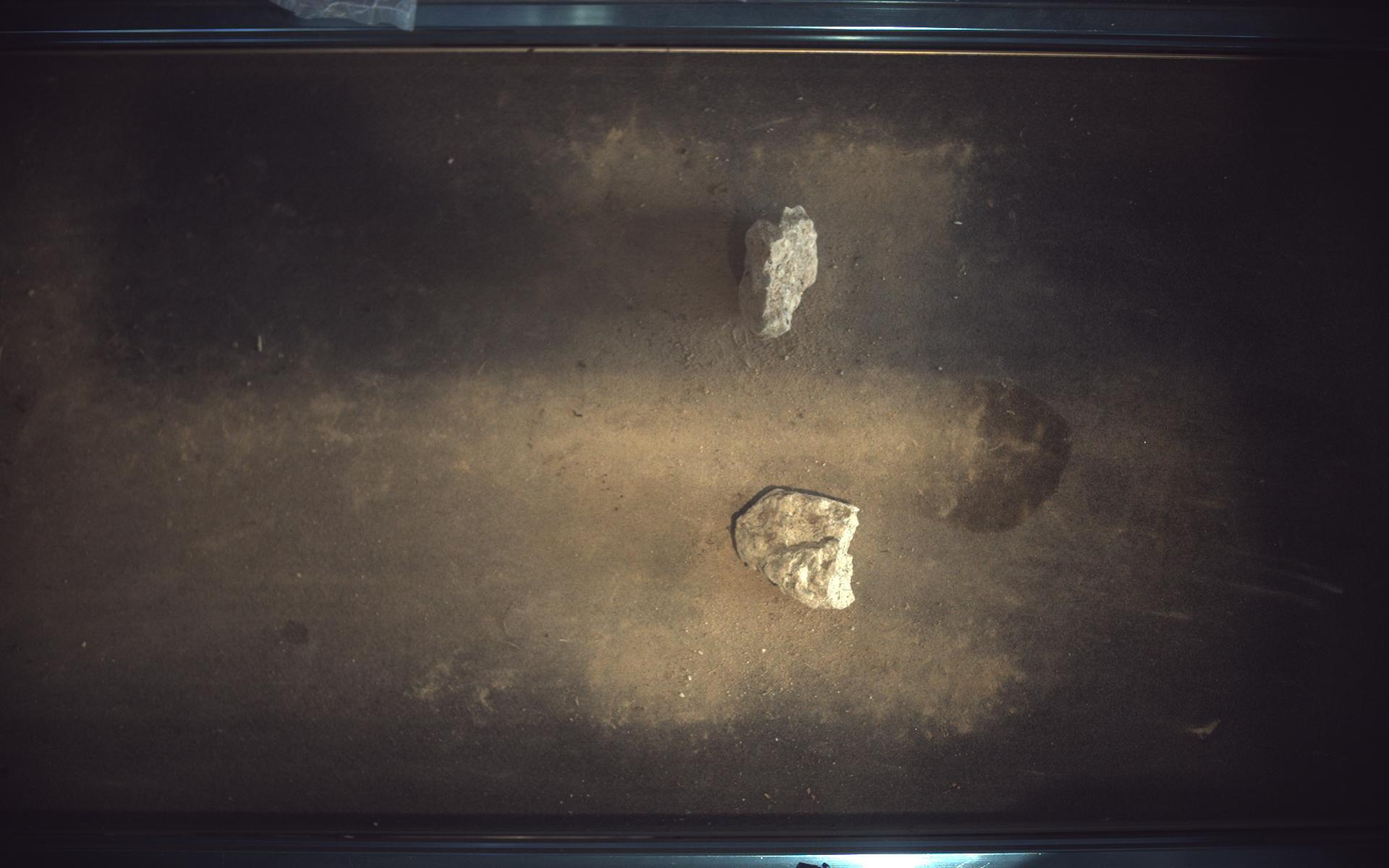stone: (734, 488, 860, 610), (740, 205, 819, 339)
